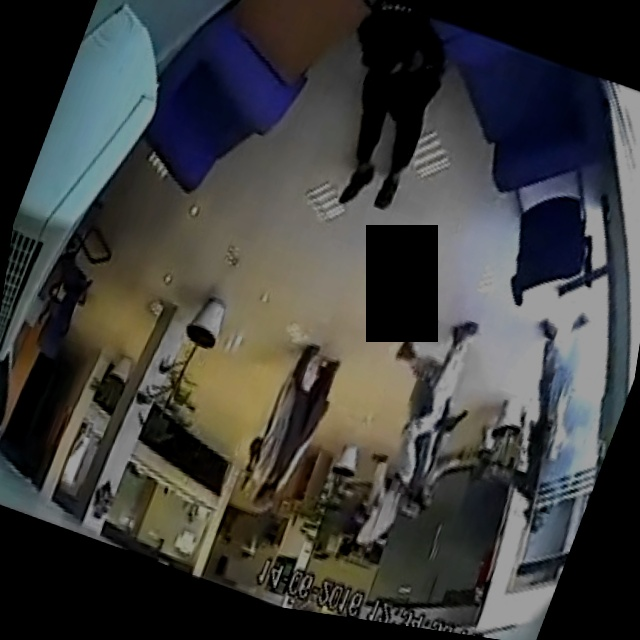gun: (433, 401, 468, 445), (234, 466, 253, 497)
